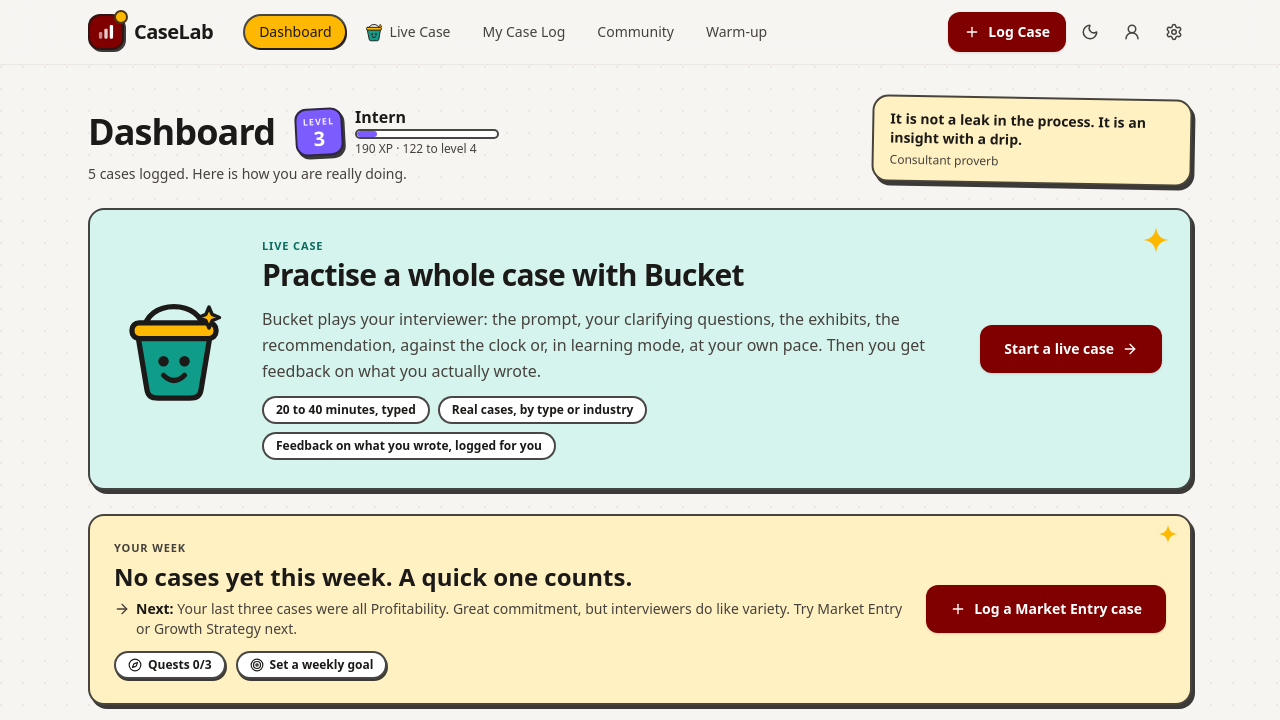
Test case: quests, medals and the sticker book › shows a medal for each skill: five ratings in a row at 4.6 or better is gold, and the others say how many ratings they need
Check: the heading "Dashboard" is shown, box [88,112,275,152]
Click the button with aria-label "Your level: level". click: (401, 132)
box: [291,104,511,160]
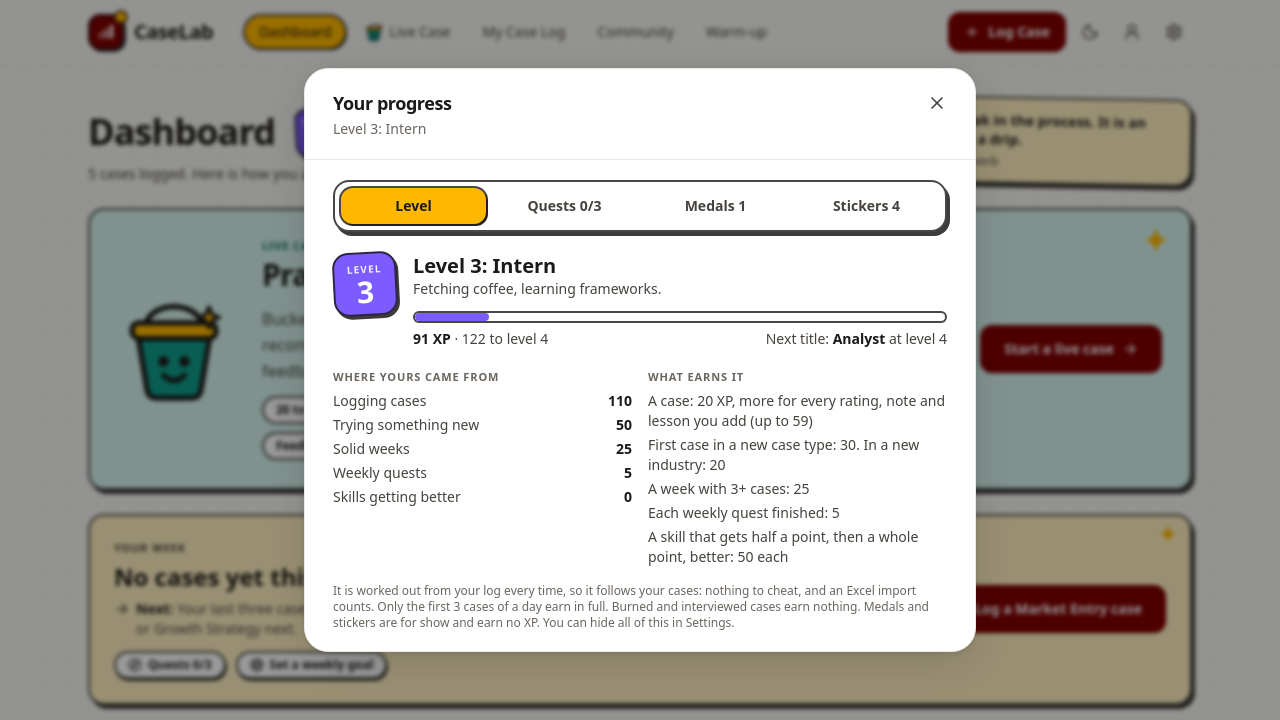
Click the tab "Medals 1". click: (716, 206)
box: [643,188,788,224]
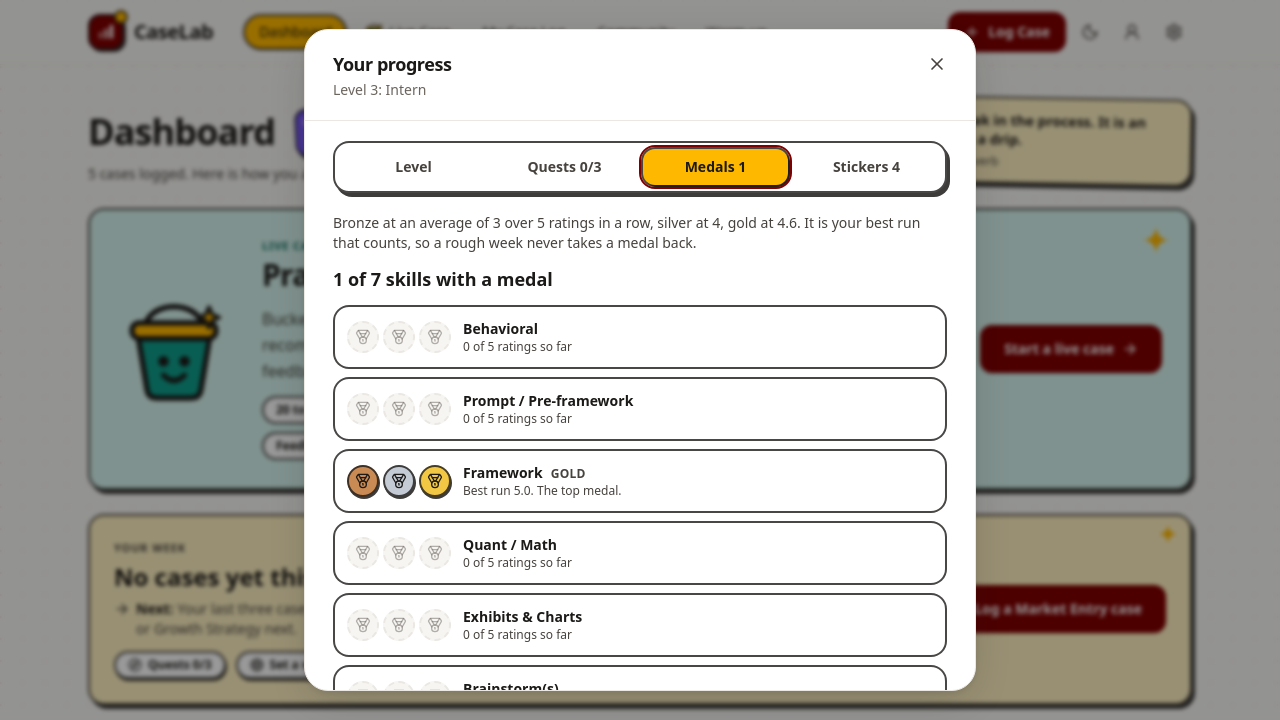
Check: the list item "Framework Gold Best run 5.0. The top medal." is shown, box [333,449,947,513]
Check: the list item "Quant / Math 0 of 5 ratings so far" is shown, box [333,521,947,585]
Check: the text "1 of 7 skills with a medal" is shown, box [333,267,553,291]
